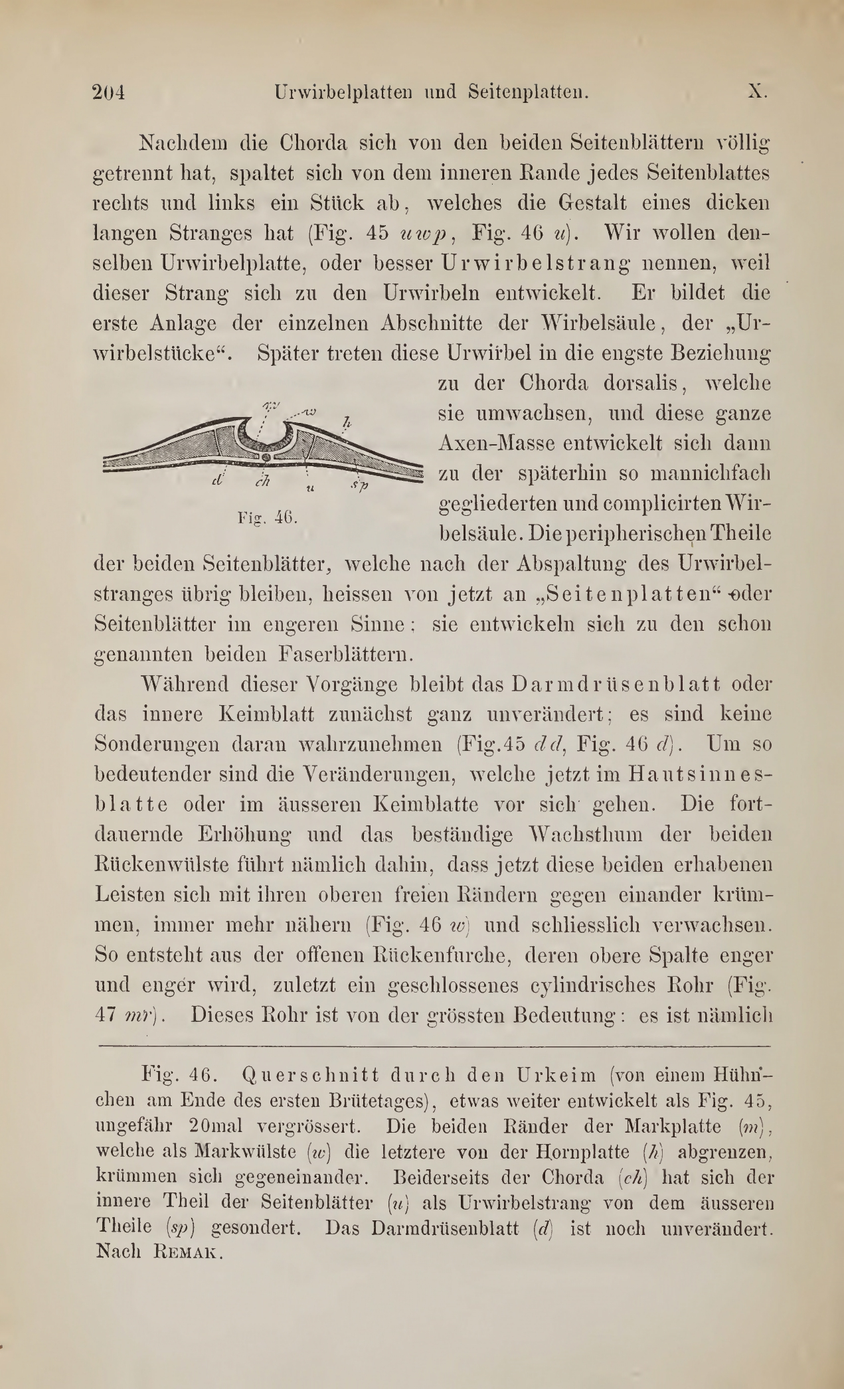GraphicZone_Description: (219, 495, 312, 542)
GraphicZone_Illustration: (93, 385, 433, 498)
MainZone: (76, 116, 784, 1044)
MarginTextZone note: (76, 1046, 779, 1294)
NumberingZone chapter: (730, 73, 779, 113)
NumberingZone_page: (80, 76, 146, 114)
RunningTitleZone: (266, 70, 605, 117)
